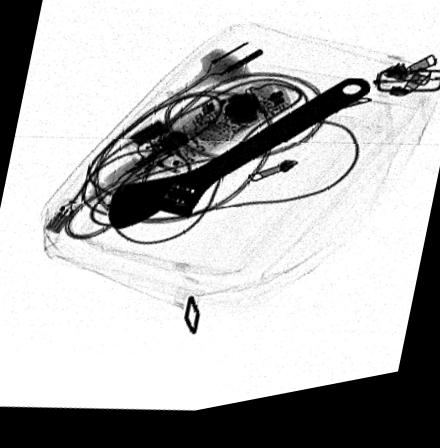Wrench: (107, 91, 371, 232)
